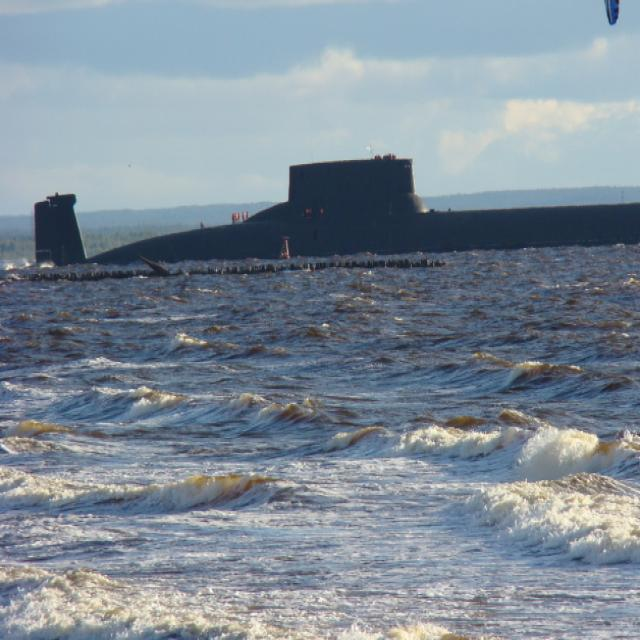submarine: (1, 148, 640, 243)
